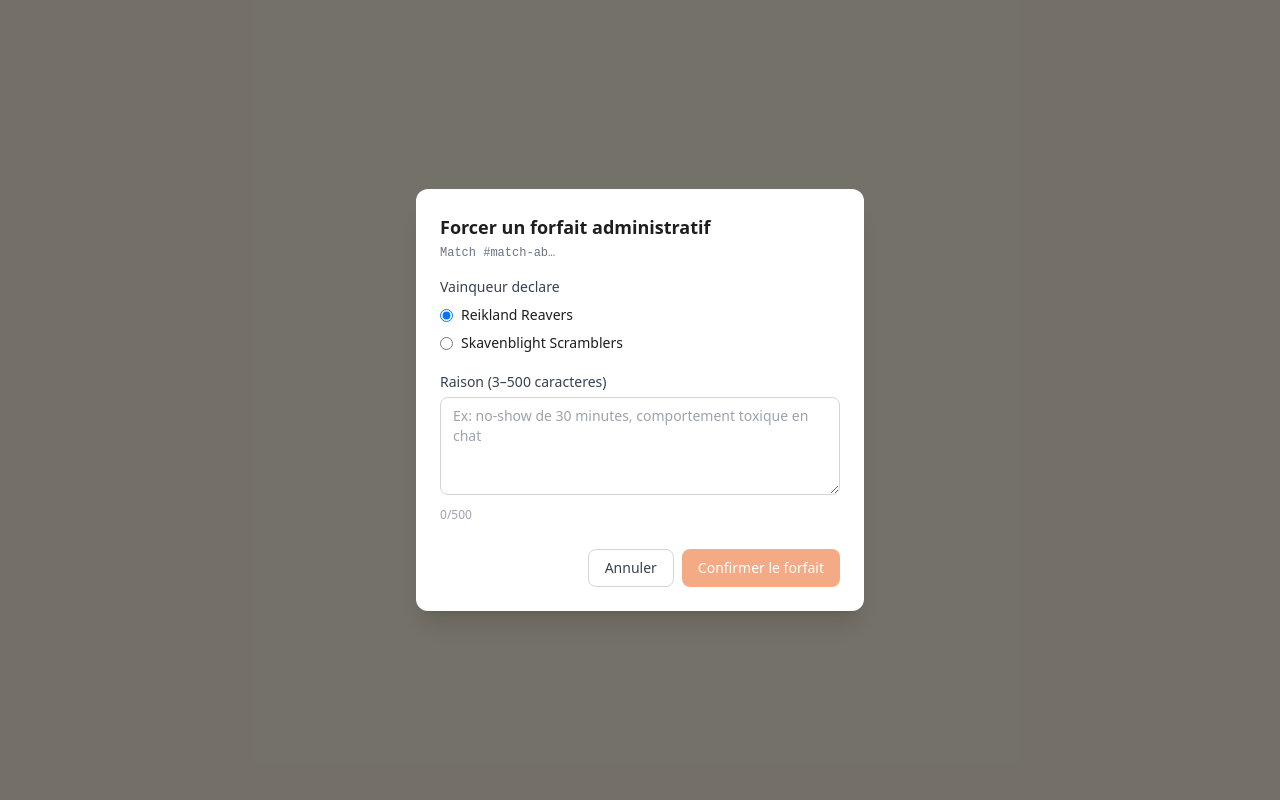
Test: ModerationModal (Lot P.B.4) › submit desactive tant que la raison < 3 chars
The width and height of the screenshot is (1280, 800).
Expected: the button with test id "moderation-submit" is disabled, [682,549,840,587]
In the text box with test id "moderation-reason": coordinates (640, 446) [440,397,840,495], type "ab"
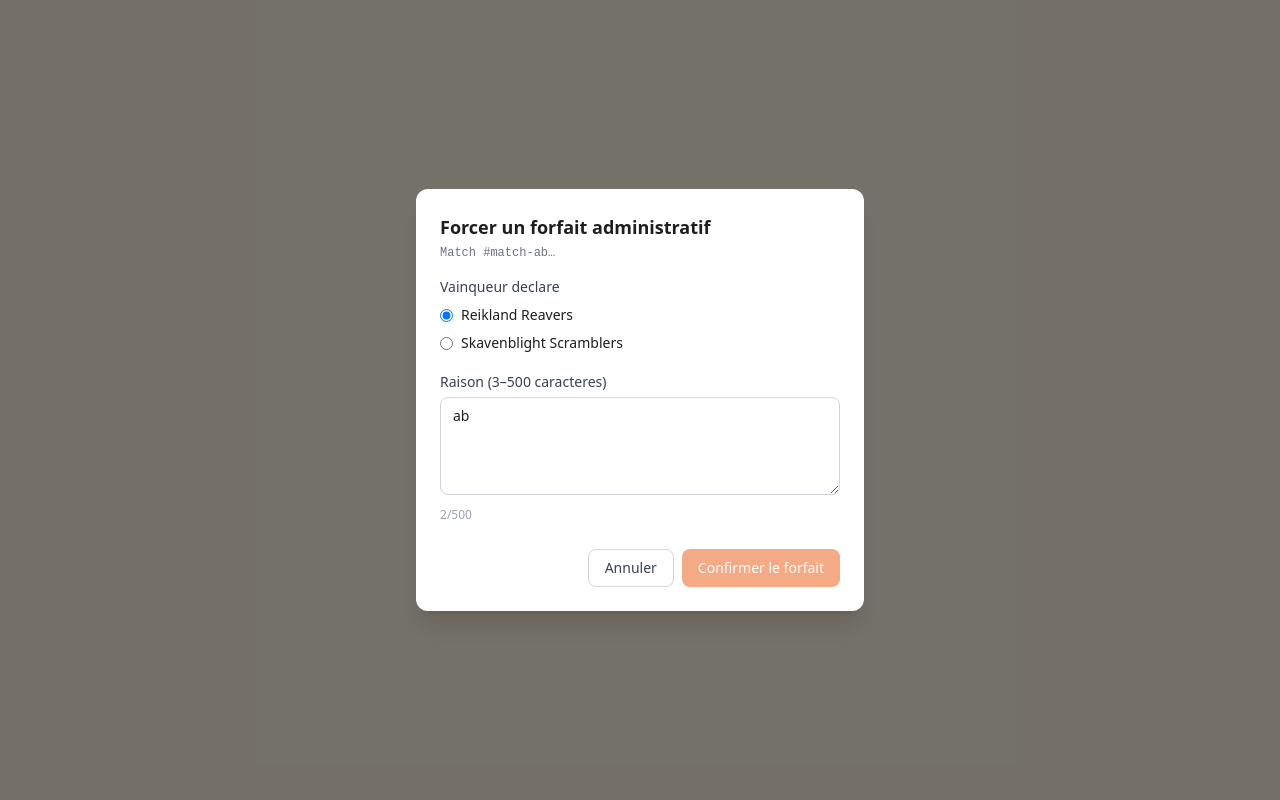
Expected: the button with test id "moderation-submit" is disabled, [682,549,840,587]
Replace the text in the text box with test id "moderation-reason" with "abc": coordinates (640, 446) [440,397,840,495]
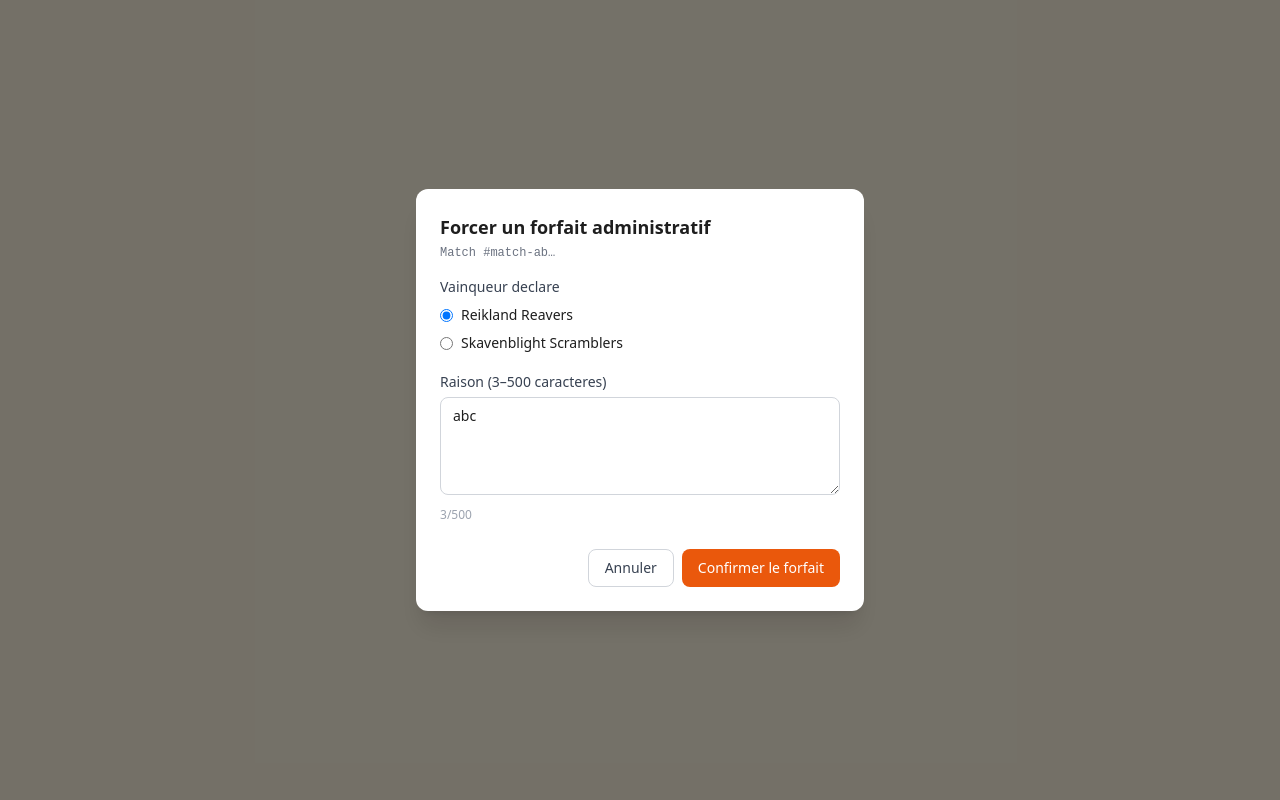
Expected: the button with test id "moderation-submit" is enabled, [682,549,840,587]
